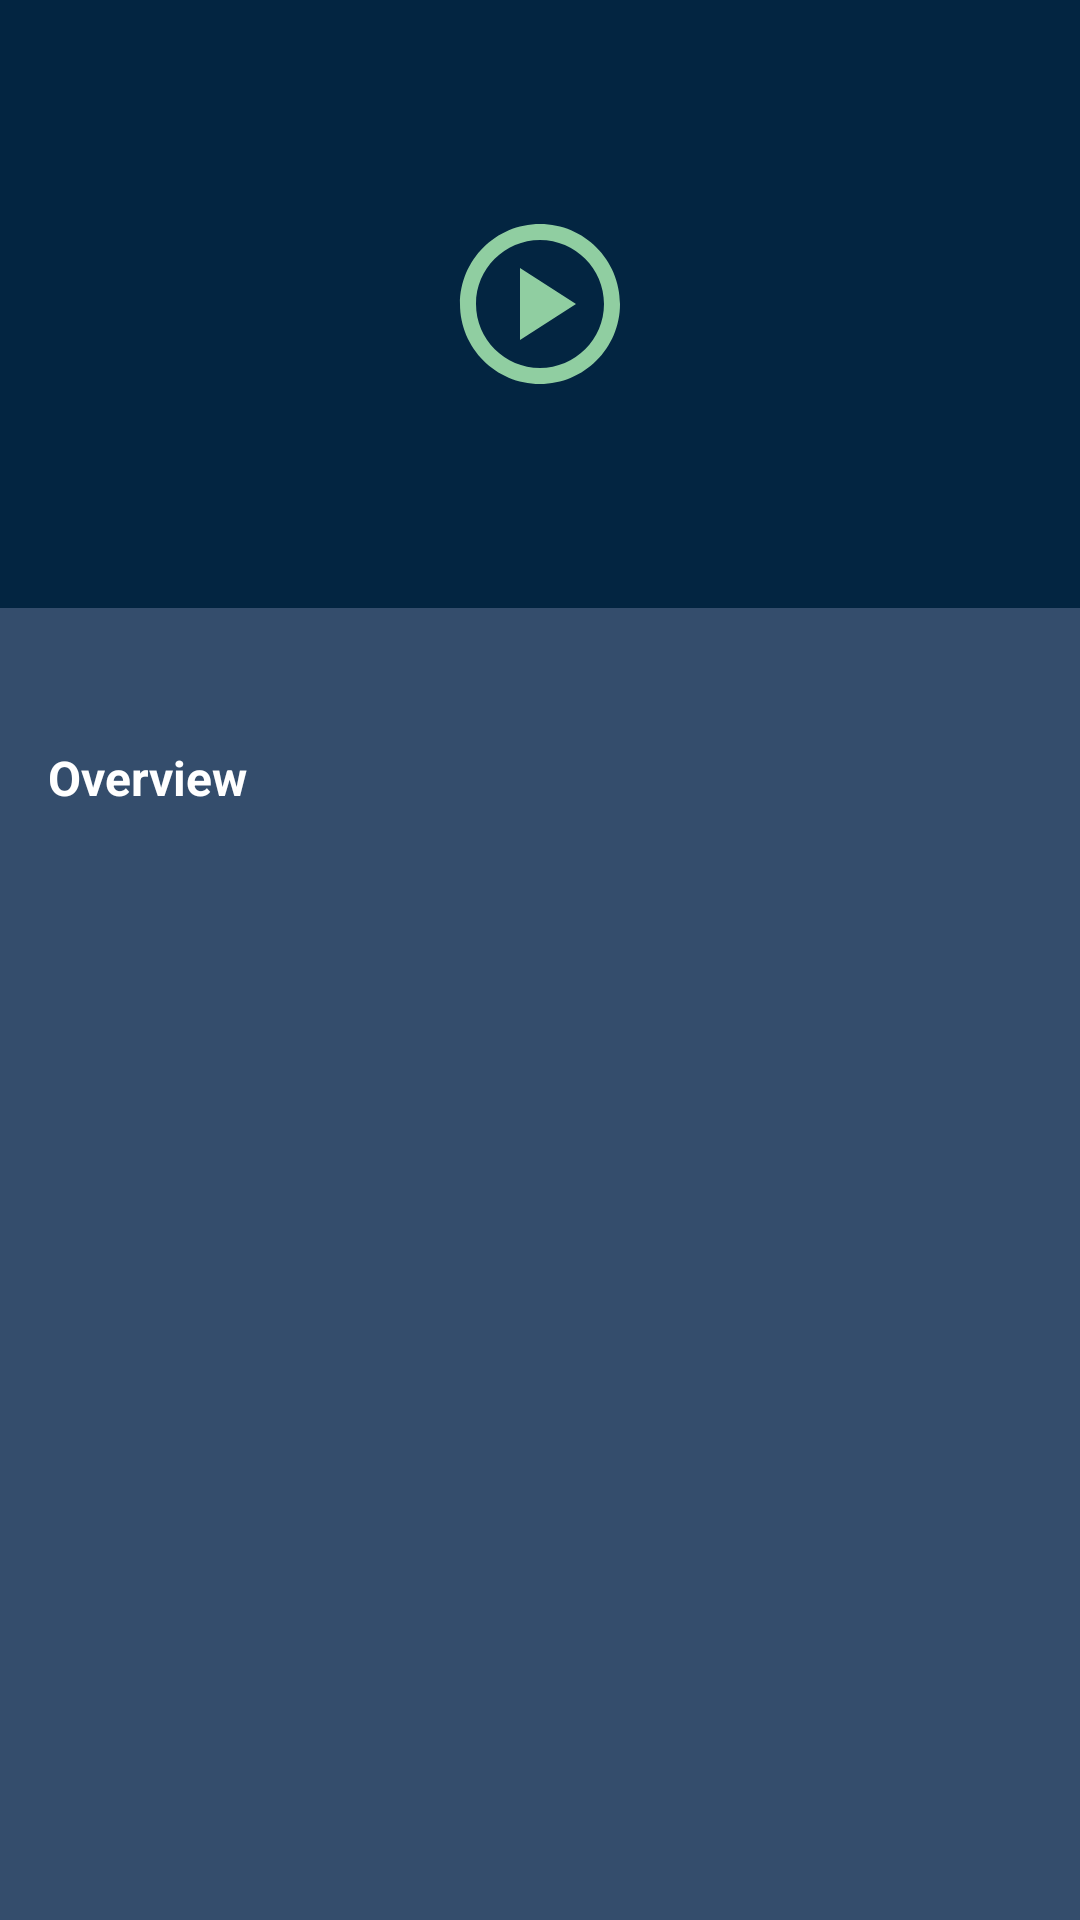

Screen size 1080w x 1920h. Icon name, then its box in pixels as rect(x1, y1, x2, y2):
play: rect(460, 224, 620, 384)
